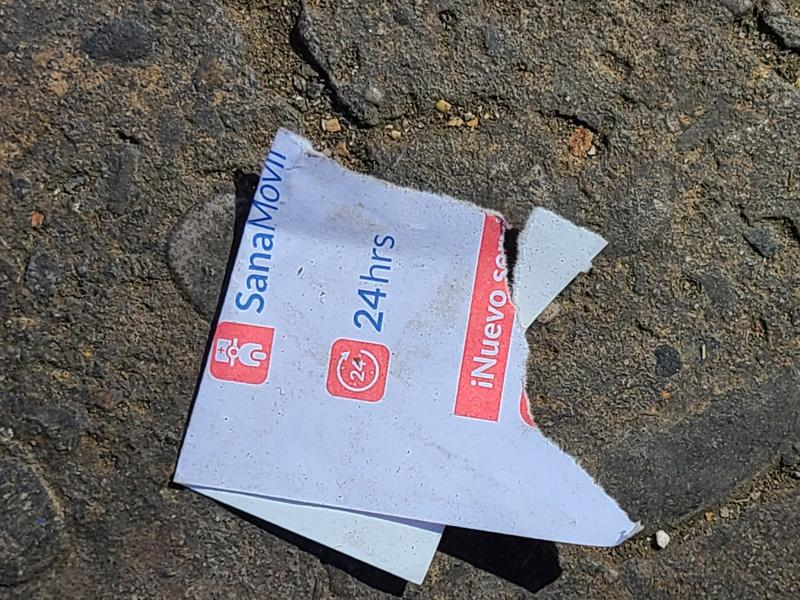papel: (173, 129, 641, 586)
